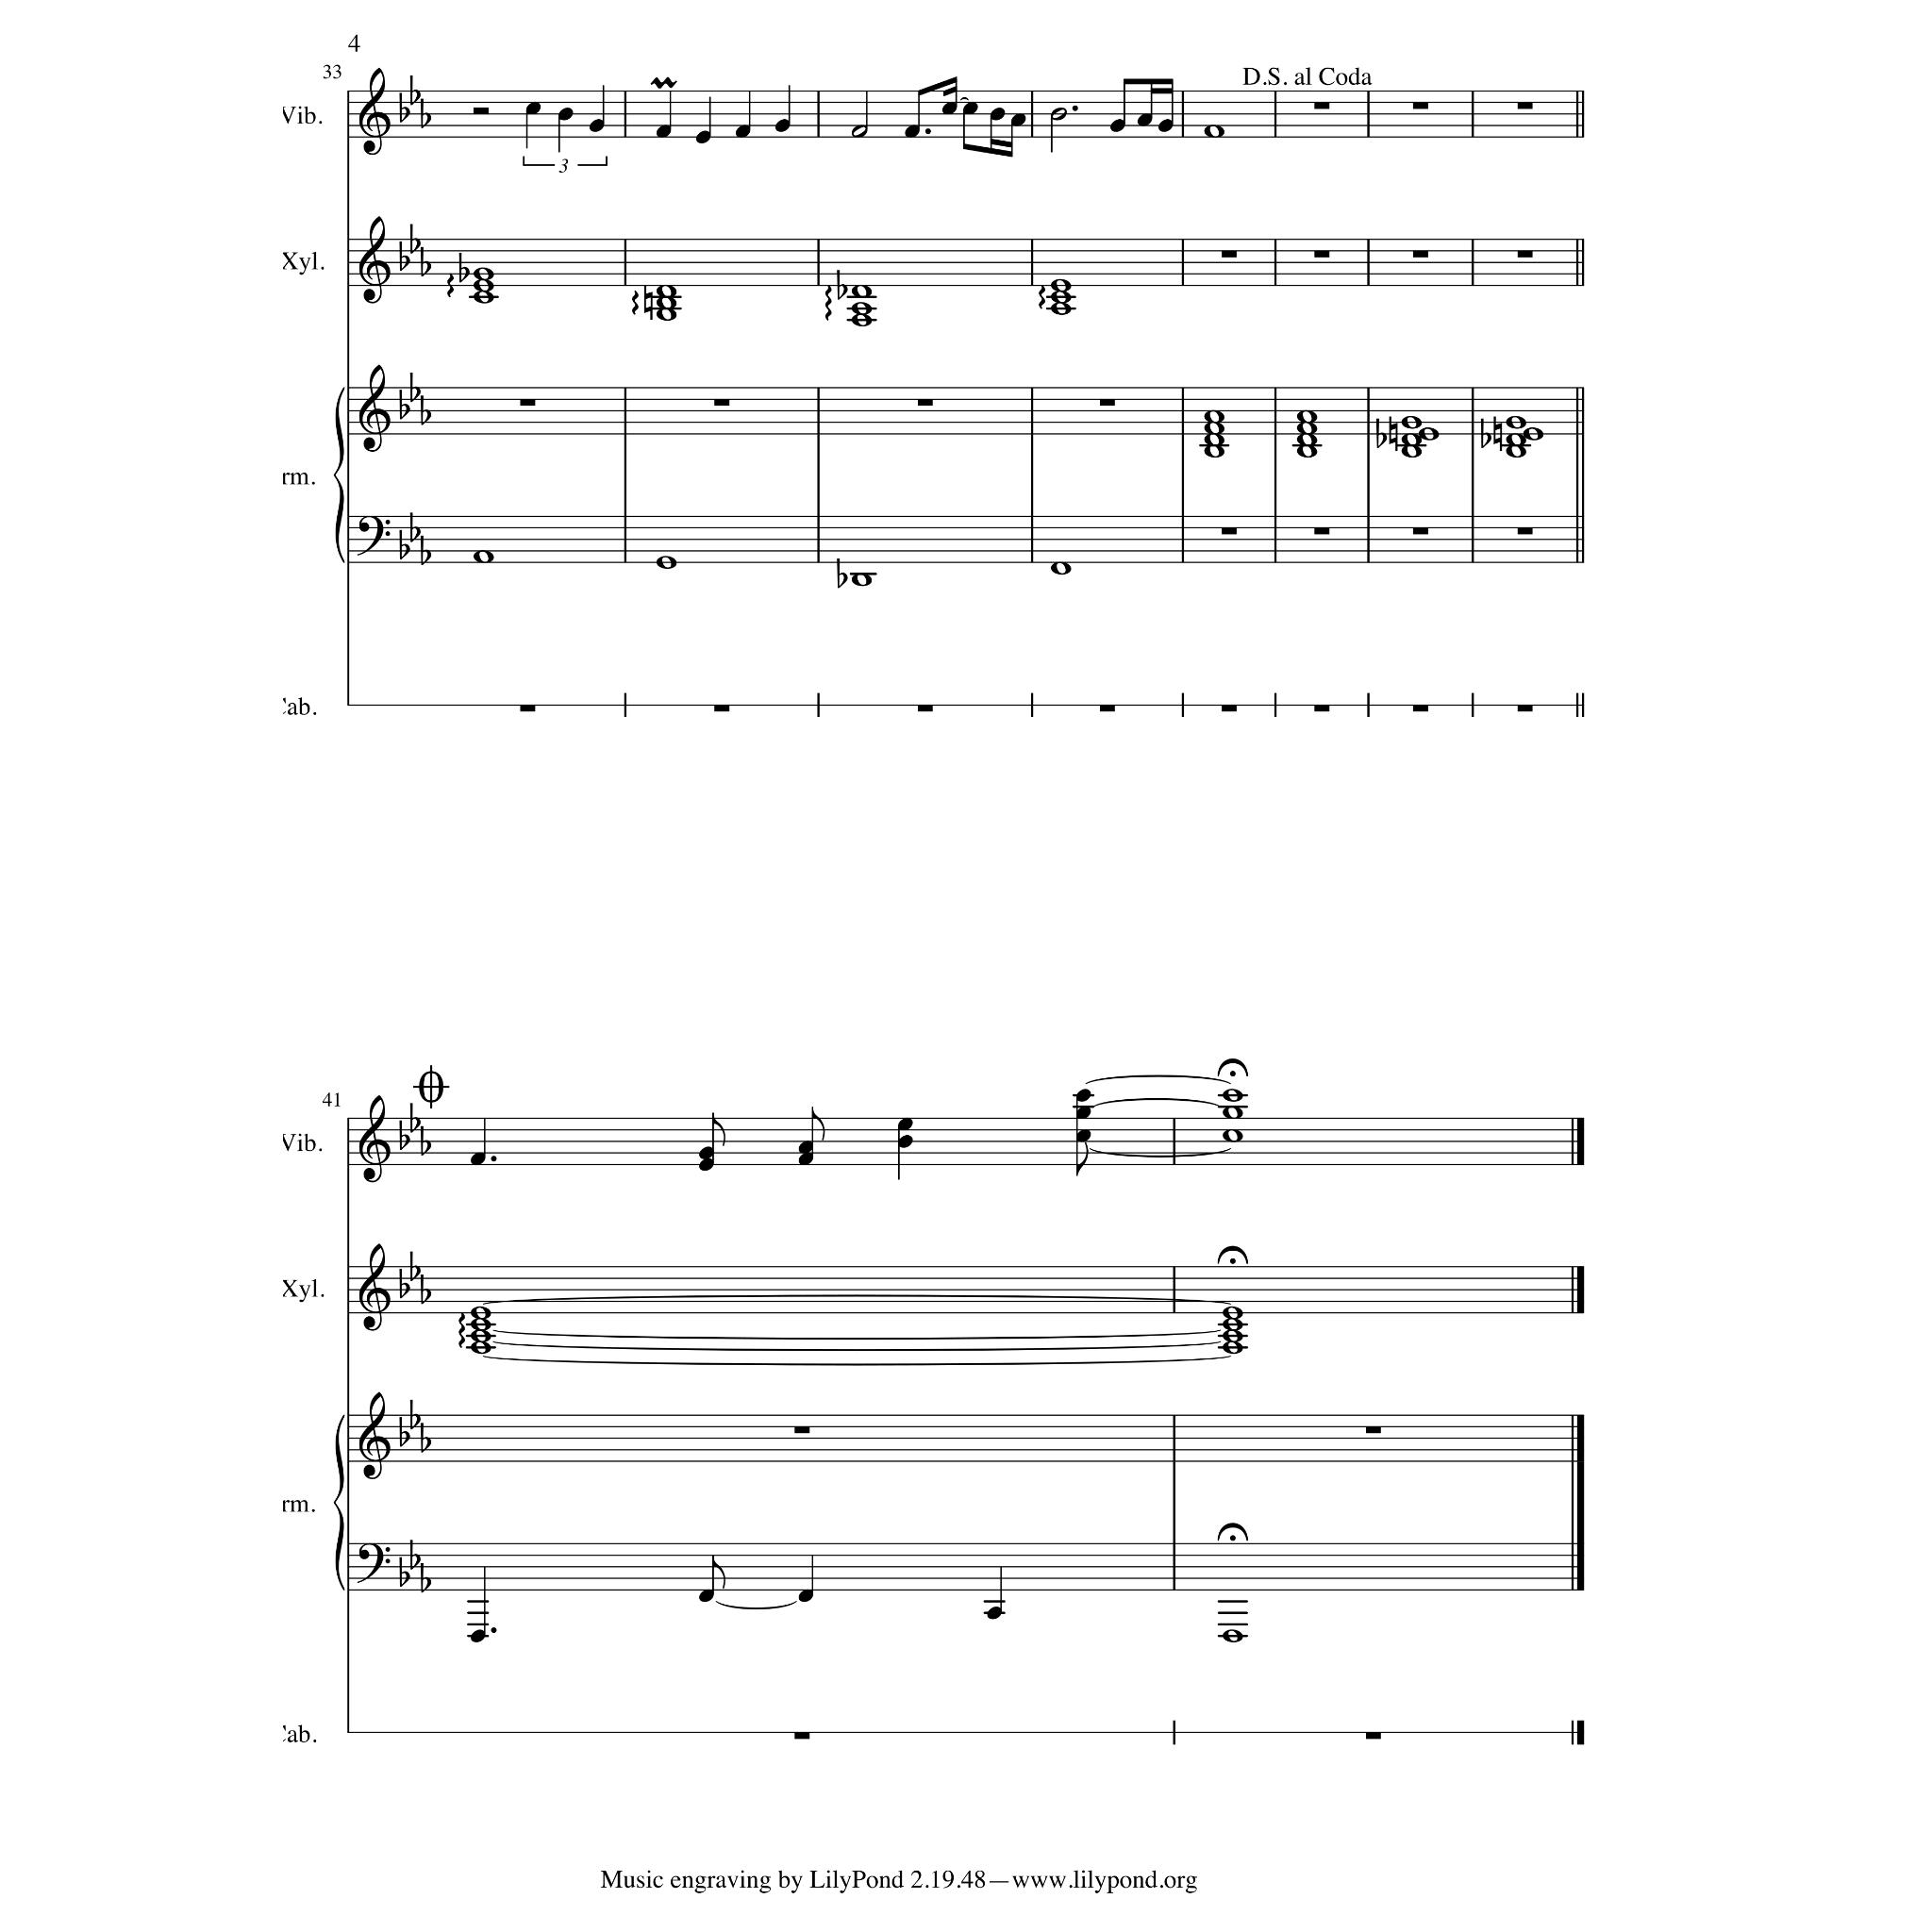brace: (333, 387, 345, 564), (333, 1415, 345, 1591)
fClef: (357, 515, 391, 556), (357, 1543, 391, 1583)
flag8thDown: (1076, 1143, 1088, 1177)
flag8thUp: (812, 1106, 824, 1141), (713, 1113, 725, 1146), (713, 1555, 725, 1589)
gClef: (359, 1391, 391, 1481), (359, 216, 391, 304), (359, 67, 391, 156), (359, 364, 391, 453), (359, 1244, 391, 1332), (359, 1095, 391, 1184)
noteheadBlack: (587, 119, 605, 133), (773, 119, 791, 133), (985, 1606, 1003, 1621), (1109, 119, 1125, 133), (1157, 119, 1173, 133), (695, 131, 711, 145), (1076, 1129, 1092, 1143), (1076, 1106, 1092, 1120), (471, 1152, 487, 1166), (798, 1589, 814, 1603), (798, 1152, 814, 1166), (897, 1134, 913, 1148), (471, 1629, 487, 1644), (697, 1589, 713, 1603), (697, 1146, 713, 1161), (1136, 113, 1152, 126), (655, 126, 671, 138), (557, 108, 573, 120), (525, 103, 541, 115), (989, 108, 1005, 120), (962, 103, 978, 115), (941, 103, 957, 115), (904, 126, 920, 138), (1010, 113, 1026, 126), (734, 126, 750, 138), (1076, 1090, 1092, 1102), (798, 1141, 814, 1154), (897, 1118, 913, 1131), (697, 1159, 713, 1171)
noteheadHalf: (1049, 108, 1067, 120), (851, 126, 869, 138)
noteheadWhole: (1295, 444, 1318, 458), (1295, 433, 1318, 448), (1295, 421, 1318, 435), (1522, 426, 1545, 441), (655, 308, 678, 322), (655, 295, 678, 310), (1203, 433, 1224, 448), (1203, 421, 1224, 435), (1203, 444, 1224, 458), (1401, 416, 1422, 430), (1417, 426, 1438, 441), (1401, 433, 1422, 448), (1401, 444, 1422, 458), (1506, 416, 1527, 430), (1506, 433, 1527, 448), (1506, 444, 1527, 458), (472, 550, 494, 564), (472, 267, 494, 281), (472, 280, 494, 294), (472, 290, 494, 304), (1049, 563, 1070, 577), (1049, 280, 1070, 294), (1049, 290, 1070, 304), (851, 573, 872, 587), (1223, 1629, 1244, 1644), (1223, 1129, 1244, 1143), (1223, 1106, 1244, 1120), (1223, 1088, 1244, 1102), (1223, 1329, 1244, 1343), (1223, 1318, 1244, 1332), (1223, 1306, 1244, 1320), (471, 1329, 492, 1343), (471, 1318, 492, 1332), (471, 1306, 492, 1320), (1295, 410, 1318, 423), (655, 285, 678, 297), (655, 557, 678, 570), (1203, 410, 1224, 423), (1203, 126, 1224, 138), (1049, 303, 1070, 315), (851, 315, 872, 327), (851, 285, 872, 297), (851, 303, 872, 315), (1223, 1341, 1244, 1353), (471, 1341, 492, 1353)
restHalf: (472, 108, 488, 115)
restWhole: (1313, 704, 1330, 713), (1099, 704, 1116, 713), (916, 704, 932, 713), (713, 704, 729, 713), (1412, 704, 1428, 713), (1221, 704, 1237, 713), (1516, 704, 1532, 713), (520, 704, 536, 713), (1099, 400, 1116, 407), (1313, 527, 1330, 534), (1313, 251, 1330, 258), (1313, 103, 1330, 110), (916, 400, 932, 407), (713, 400, 729, 407), (1412, 251, 1428, 258), (1412, 527, 1428, 534), (1412, 103, 1428, 110), (1221, 251, 1237, 258), (1221, 527, 1237, 534), (520, 400, 536, 407), (1516, 527, 1532, 534), (1516, 251, 1532, 258), (1516, 103, 1532, 110), (794, 1426, 810, 1433), (794, 1732, 810, 1739), (1364, 1426, 1380, 1433), (1364, 1732, 1380, 1739)
